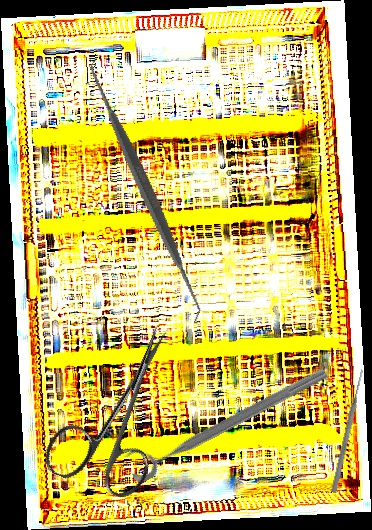Fixation Ring: (121, 351, 331, 486)
Iris Scissors: (38, 306, 206, 510)
Pusher: (329, 368, 367, 494)
Spatula Surgical: (9, 56, 282, 324)
